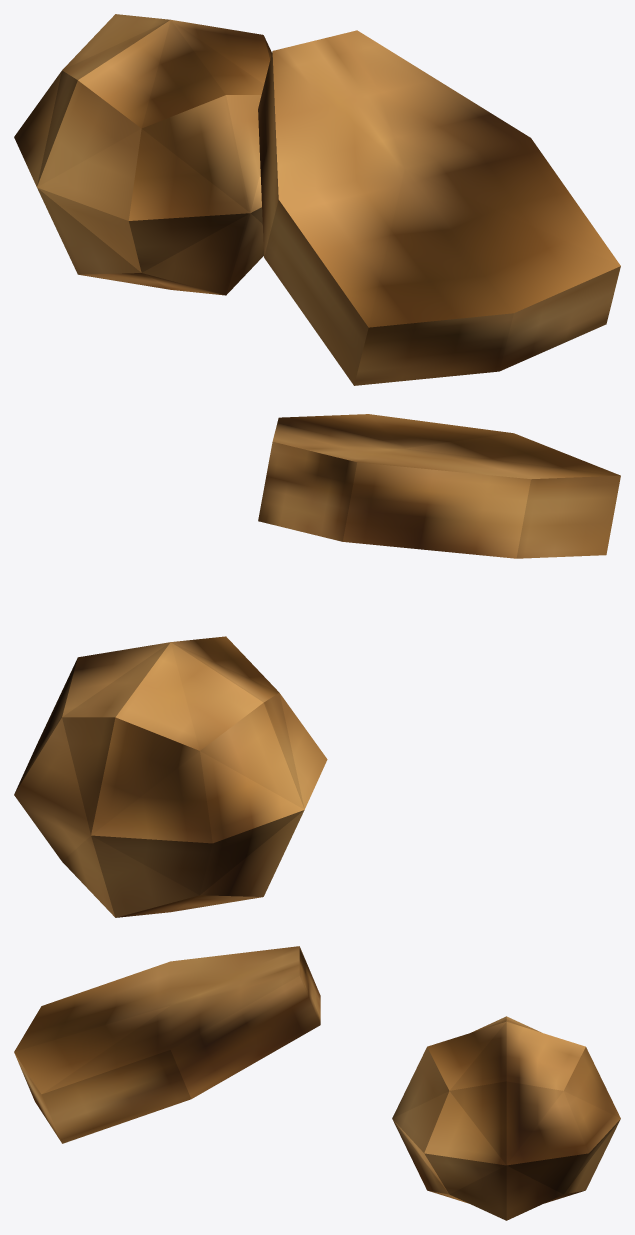
Rendered from hair_female_03.dae.
The picture shows the model from 3 angles, top to bottom: view 1: azimuth 30°, elevation 25°; view 2: azimuth 150°, elevation 25°; view 3: azimuth 270°, elevation 25°; orthographic projection. The views are drawn at different scales.
Parts seen in each view (by area): view 1: a_hair_female_03; view 2: a_hair_female_03; view 3: a_hair_female_03.
Part boxes in pixels (x1=…): a_hair_female_03: x1=14, y1=14, x2=620, y2=385; a_hair_female_03: x1=14, y1=414, x2=620, y2=917; a_hair_female_03: x1=14, y1=946, x2=620, y2=1220.
Bounding box in the file's own units: 0.251 × 0.6866 × 0.3178.
